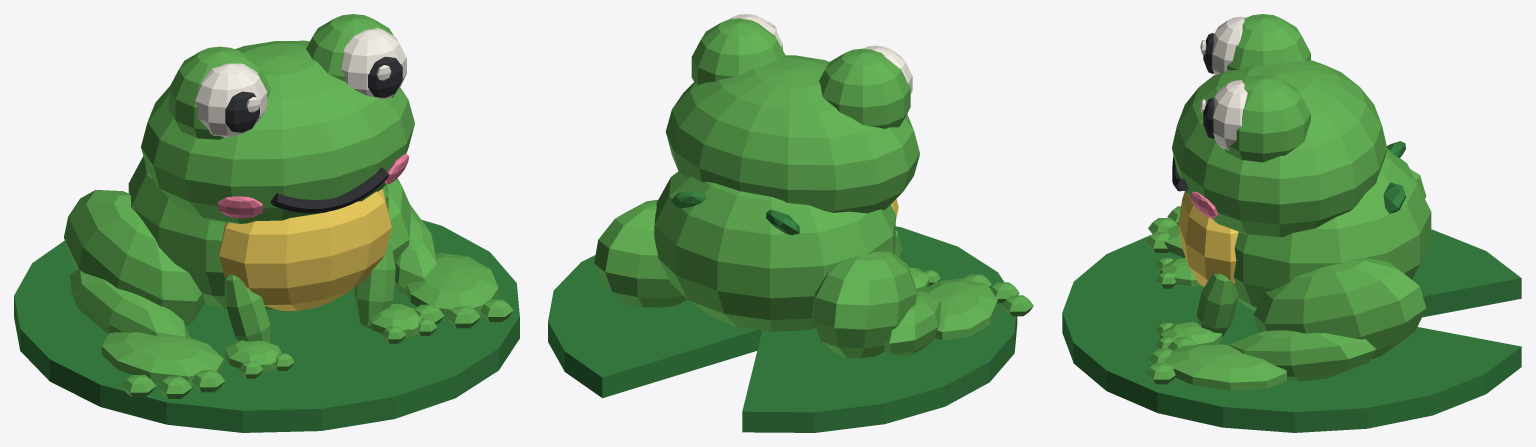
File: lily-pad-frog-pet.glb
3 views of the same model, side by side, from view 1: azimuth 30°, elevation 25°; view 2: azimuth 150°, elevation 25°; view 3: azimuth 270°, elevation 25° (orthographic). The views are drawn at different scales.
Parts seen in each view (by area): view 1: Frog_LilyPad; view 2: Frog_LilyPad; view 3: Frog_LilyPad.
Boxes of the visible parts, <box> form: Frog_LilyPad: <box>14,14,519,432</box>; Frog_LilyPad: <box>548,14,1033,432</box>; Frog_LilyPad: <box>1062,14,1521,432</box>.
Bounding box in the file's own units: 3.02 × 2 × 2.93.
